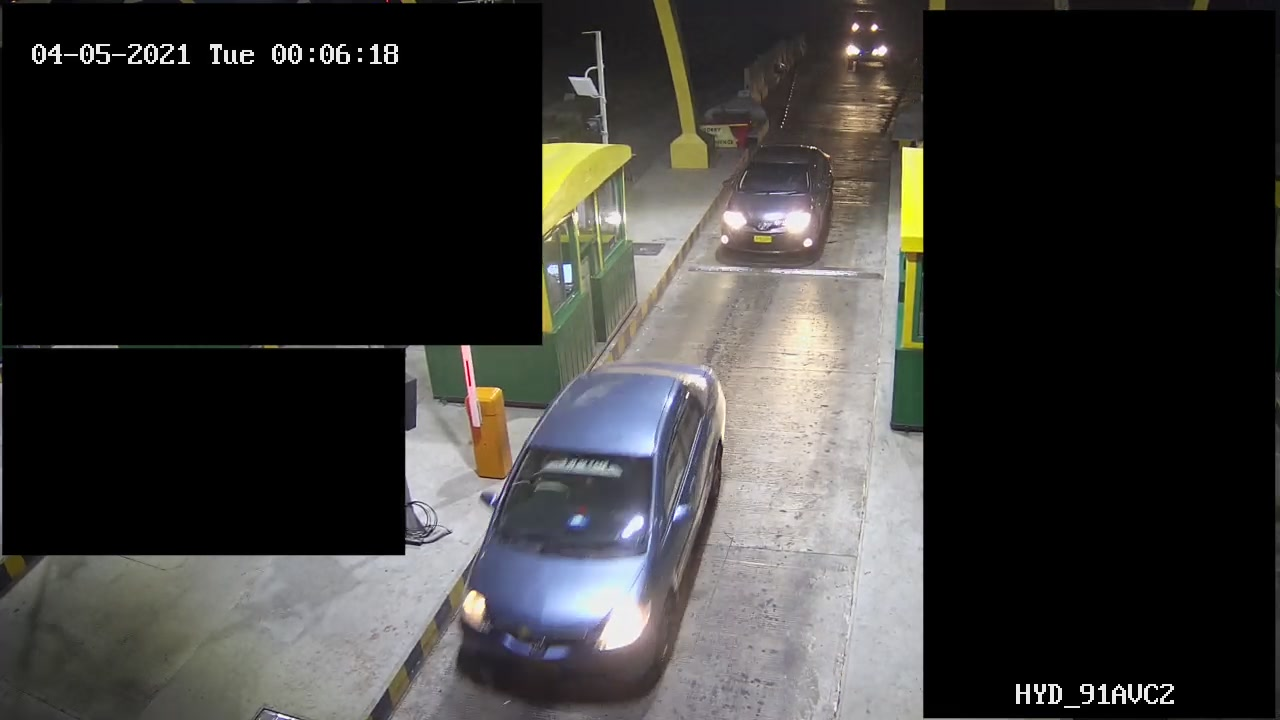F1: (455, 321, 741, 697), (705, 137, 846, 271)
